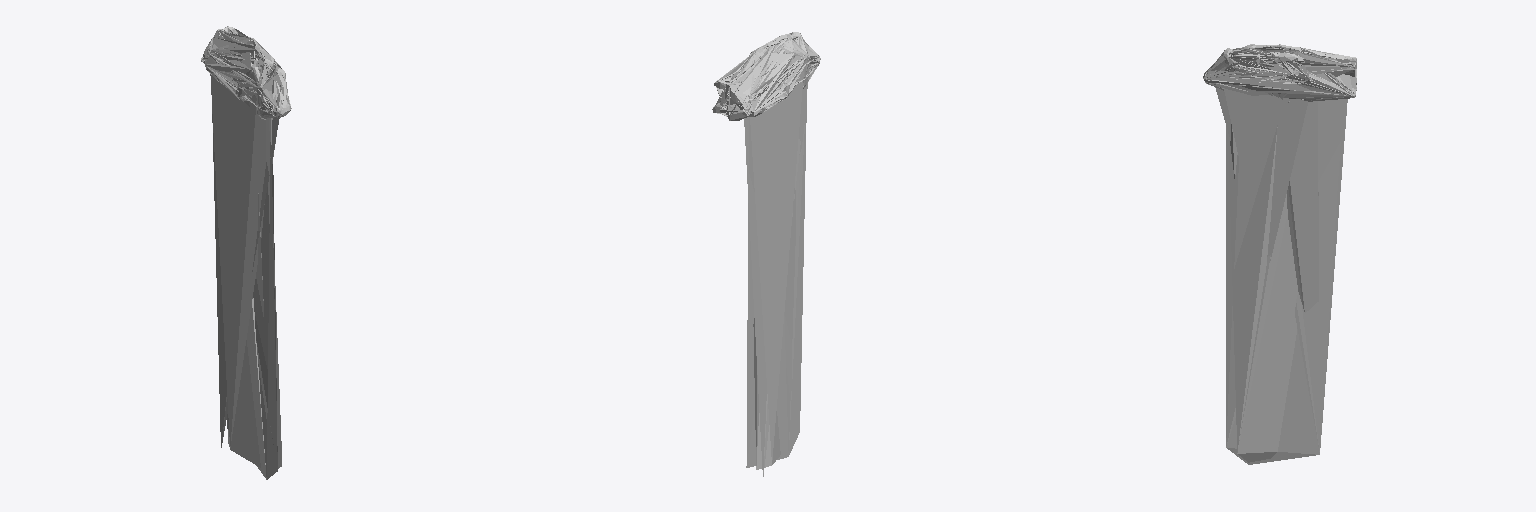
File: People 2.obj
3 views of the same model, side by side, from view 1: azimuth 30°, elevation 25°; view 2: azimuth 150°, elevation 25°; view 3: azimuth 270°, elevation 25° (orthographic).
Parts seen in each view (by area): view 1: VRayProxy_RP_Kid_Rob_Jill_0176_200K, VRayProxy_RP_Pair_Julia_Aaron_0225_200K; view 2: VRayProxy_RP_Kid_Rob_Jill_0176_200K, VRayProxy_RP_Pair_Julia_Aaron_0225_200K; view 3: VRayProxy_RP_Kid_Rob_Jill_0176_200K, VRayProxy_RP_Wom_Julia_0245_100k, VRayProxy_RP_Pair_Julia_Aaron_0225_200K, VRayProxy_RP_Wom_Julia_0208_100k.
Part boxes in pixels (bbox=[...]): VRayProxy_RP_Kid_Rob_Jill_0176_200K: bbox=[201, 26, 282, 479]; VRayProxy_RP_Pair_Julia_Aaron_0225_200K: bbox=[201, 26, 291, 119]; VRayProxy_RP_Kid_Rob_Jill_0176_200K: bbox=[714, 35, 819, 476]; VRayProxy_RP_Pair_Julia_Aaron_0225_200K: bbox=[712, 32, 820, 120]; VRayProxy_RP_Kid_Rob_Jill_0176_200K: bbox=[1212, 44, 1356, 464]; VRayProxy_RP_Wom_Julia_0245_100k: bbox=[1204, 49, 1351, 97]; VRayProxy_RP_Pair_Julia_Aaron_0225_200K: bbox=[1203, 44, 1356, 96]; VRayProxy_RP_Wom_Julia_0208_100k: bbox=[1229, 46, 1351, 95].
Bounding box in the file's own units: 0.5371 × 5.84 × 1.93.